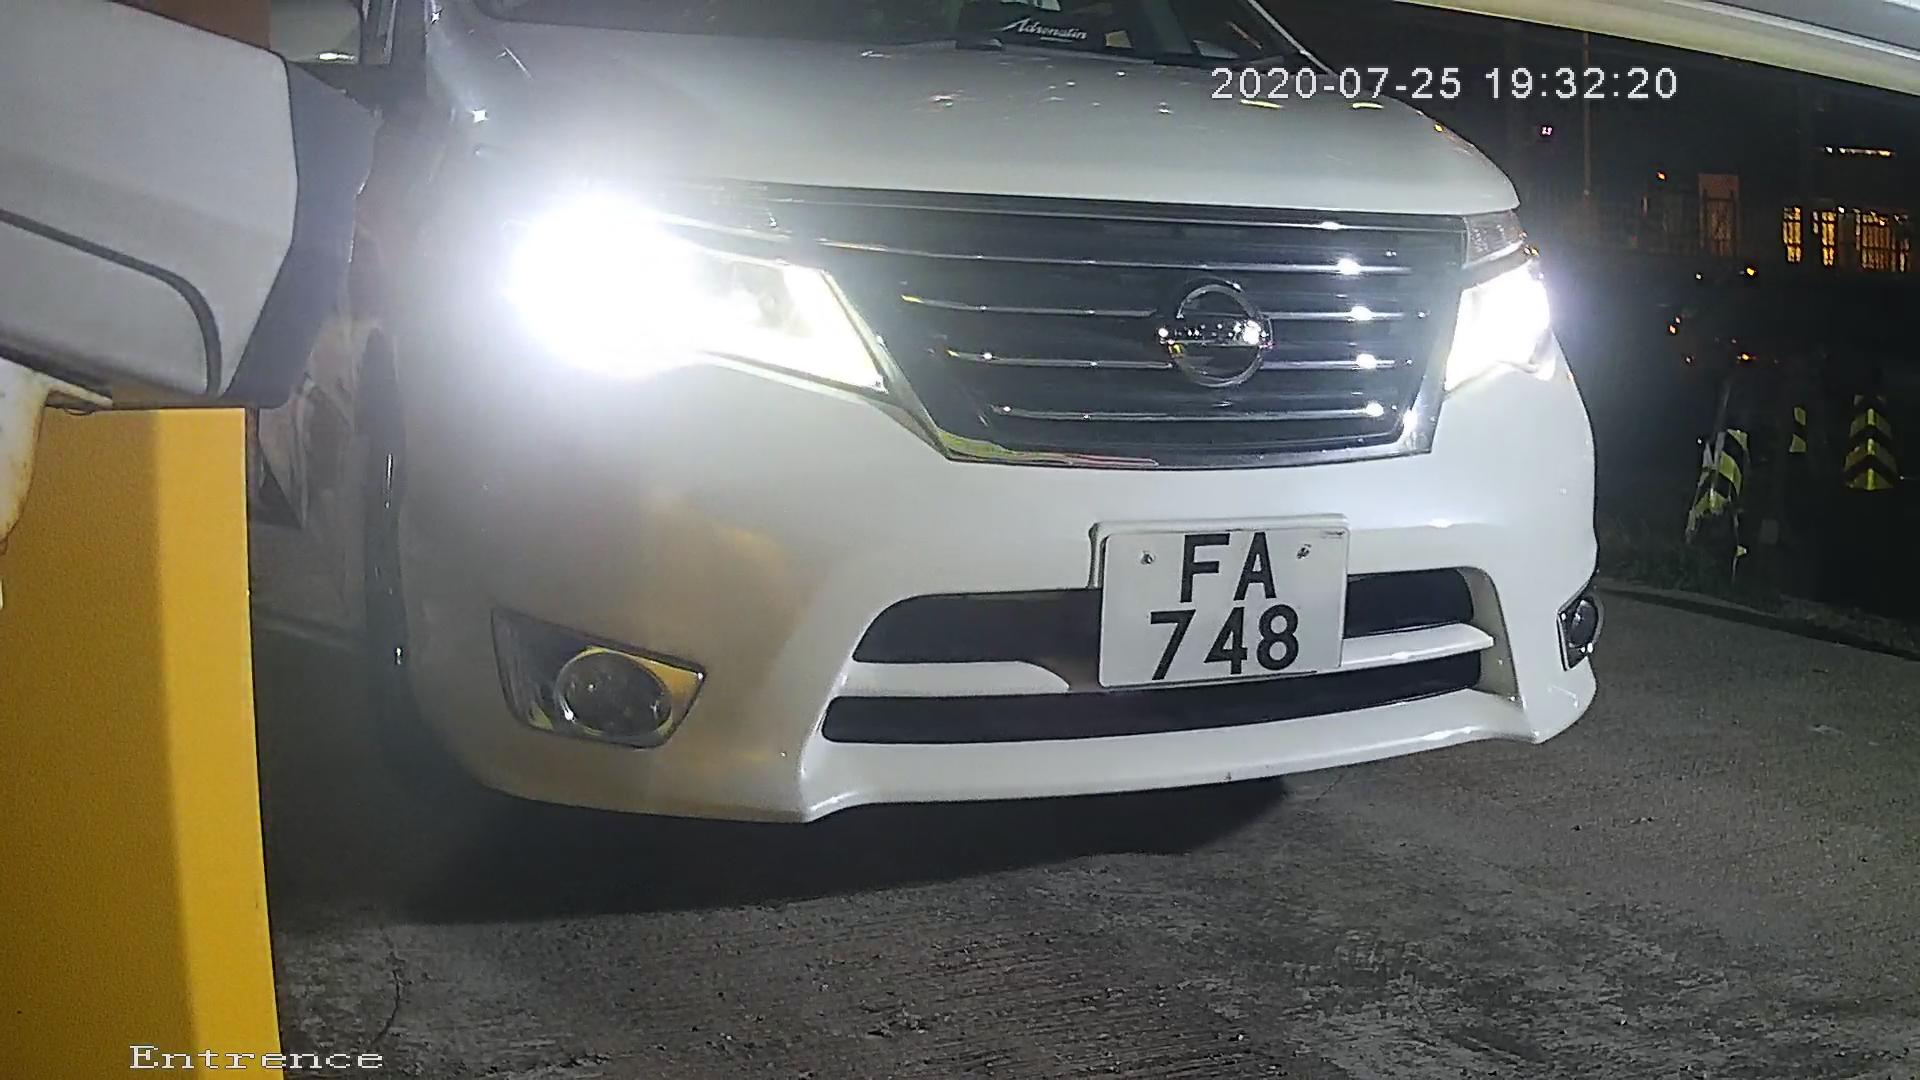Car: (61, 1, 1732, 888)
License Plate: (1072, 497, 1372, 714)
